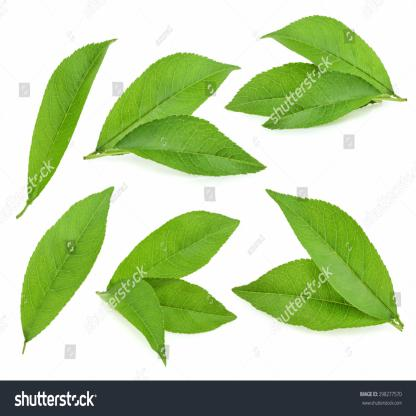Peach leaf: (265, 184, 398, 327), (95, 38, 242, 153), (18, 186, 117, 356), (24, 30, 116, 204), (230, 254, 384, 334), (258, 12, 399, 94), (105, 114, 266, 180), (108, 211, 244, 284), (264, 73, 385, 130), (150, 268, 239, 336), (105, 274, 168, 364), (224, 62, 303, 113)
